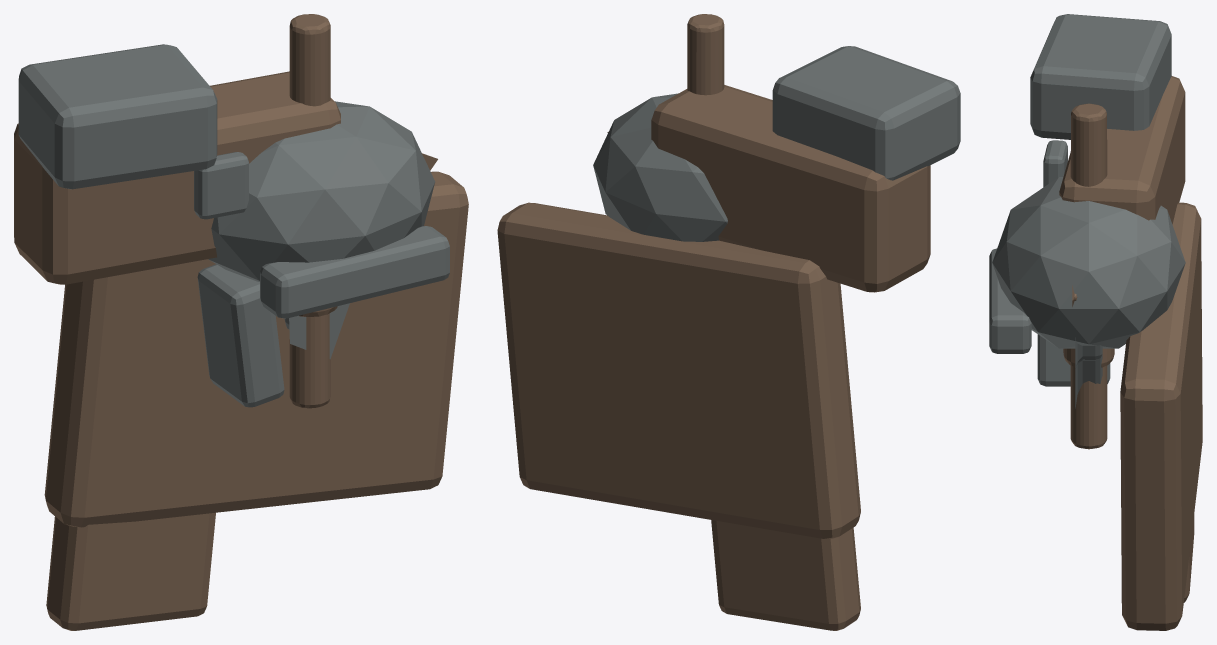
Rendered from barrosan_outrider_r1_accessories.glb.
The picture shows the model from 3 angles, left to right: view 1: azimuth 30°, elevation 25°; view 2: azimuth 150°, elevation 25°; view 3: azimuth 270°, elevation 25°; orthographic projection. The views are drawn at different scales.
Visible parts, largest first — view 1: OutriderMantle_RearFlap, OutriderMantle_ShoulderCloth, OutriderHelm_Shell, OutriderMantle_OffsetShoulderPlate, OutriderMantle_SplitTail, OutriderHelm_LowBrow, OutriderHelm_CheekGuard, OutriderAxe_Haft, OutriderMantle_Clasp, OutriderAxe_BeardedHead; view 2: OutriderMantle_RearFlap, OutriderMantle_ShoulderCloth, OutriderMantle_OffsetShoulderPlate, OutriderMantle_SplitTail, OutriderHelm_Shell, OutriderAxe_Haft; view 3: OutriderMantle_RearFlap, OutriderHelm_Shell, OutriderMantle_OffsetShoulderPlate, OutriderMantle_ShoulderCloth, OutriderAxe_Haft, OutriderHelm_LowBrow, OutriderHelm_CheekGuard, OutriderAxe_BeardedHead, OutriderMantle_Clasp, OutriderAxe_Grip, OutriderMantle_SplitTail.
Part boxes in pixels (x1,y1,x2,y2): OutriderMantle_RearFlap: (44,171,468,527); OutriderMantle_ShoulderCloth: (14,71,340,284); OutriderHelm_Shell: (208,101,435,281); OutriderMantle_OffsetShoulderPlate: (18,44,217,189); OutriderMantle_SplitTail: (46,512,215,630); OutriderHelm_LowBrow: (260,226,449,318); OutriderHelm_CheekGuard: (197,264,284,407); OutriderAxe_Haft: (289,14,330,408); OutriderMantle_Clasp: (194,152,248,219); OutriderAxe_BeardedHead: (284,303,349,359); OutriderMantle_RearFlap: (497,202,860,539); OutriderMantle_ShoulderCloth: (651,85,930,292); OutriderMantle_OffsetShoulderPlate: (772,46,960,180); OutriderMantle_SplitTail: (711,520,860,630); OutriderHelm_Shell: (593,93,727,241); OutriderAxe_Haft: (687,14,724,95); OutriderMantle_RearFlap: (1120,202,1202,630); OutriderHelm_Shell: (992,177,1185,348); OutriderMantle_OffsetShoulderPlate: (1030,14,1171,139); OutriderMantle_ShoulderCloth: (1059,76,1185,224); OutriderAxe_Haft: (1070,103,1107,449); OutriderHelm_LowBrow: (989,248,1031,353); OutriderHelm_CheekGuard: (1037,334,1110,386); OutriderAxe_BeardedHead: (1075,337,1102,408); OutriderMantle_Clasp: (1043,140,1067,187); OutriderAxe_Grip: (1063,348,1114,367); OutriderMantle_SplitTail: (1184,514,1194,602).
Bounding box in the file's own units: 0.7576 × 0.9643 × 0.3531.
